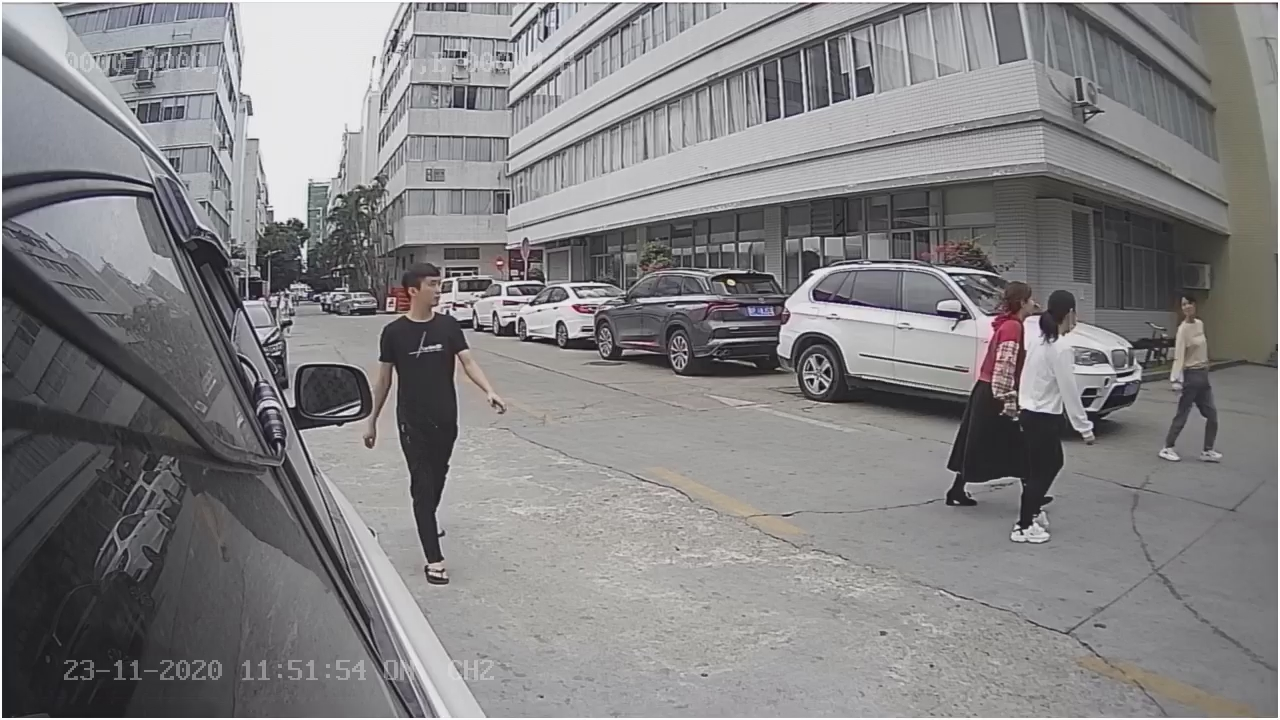person: (363, 258, 515, 582), (1006, 288, 1091, 547), (1153, 287, 1232, 462)
